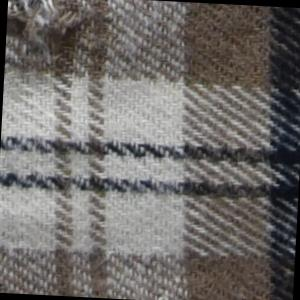Damage: (5, 1, 107, 82)
